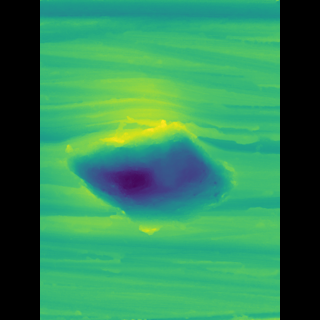Loch: (84, 106, 220, 239)
